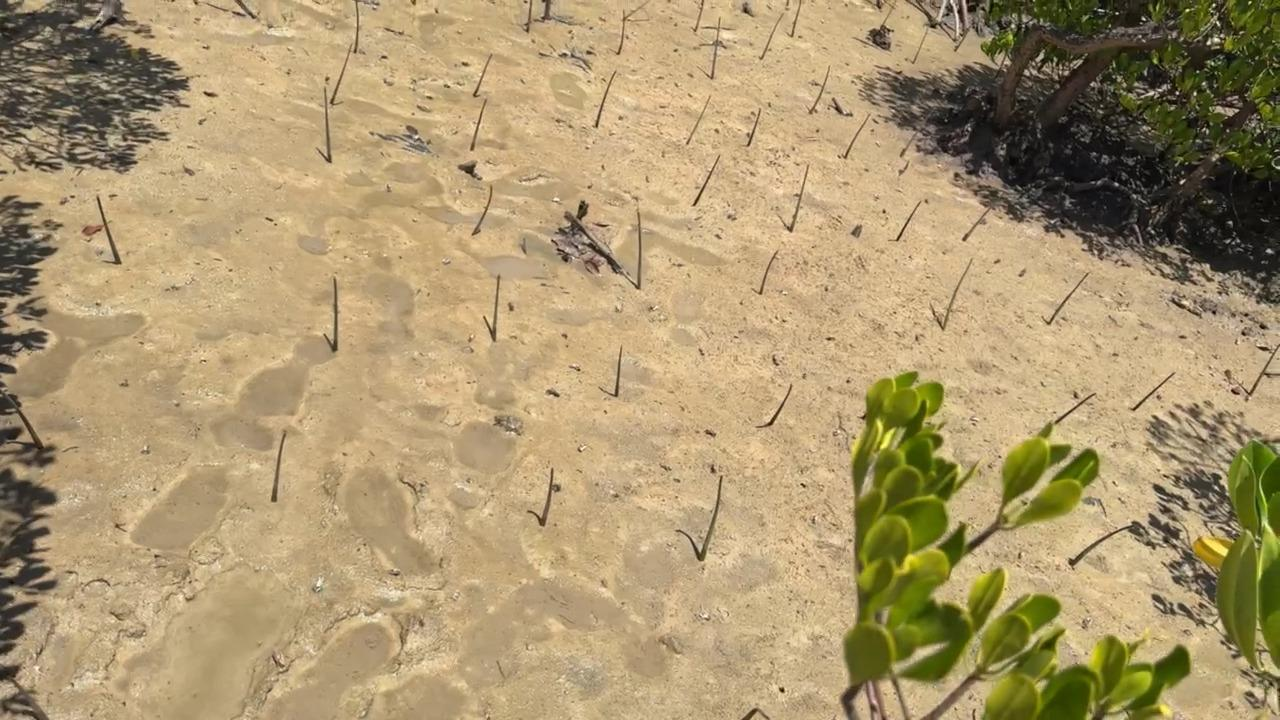Tree: (1071, 524, 1136, 565), (0, 390, 44, 449), (698, 475, 724, 562), (943, 257, 973, 330), (1049, 273, 1089, 325), (96, 196, 122, 264), (900, 109, 936, 157), (1132, 372, 1175, 411), (1250, 345, 1280, 394), (329, 44, 353, 102), (790, 163, 810, 232), (693, 155, 720, 206), (1055, 393, 1097, 424), (685, 95, 711, 144), (271, 434, 289, 502), (844, 114, 871, 158), (595, 71, 616, 127), (760, 13, 784, 61), (472, 186, 493, 235), (809, 66, 830, 115), (769, 384, 793, 426), (470, 98, 489, 151), (897, 201, 922, 241), (963, 207, 991, 241), (760, 250, 779, 295), (473, 55, 492, 97), (541, 468, 554, 525), (323, 86, 332, 163), (710, 17, 721, 78), (912, 28, 928, 64), (493, 275, 501, 342), (334, 277, 341, 353), (747, 108, 761, 146), (637, 213, 643, 289), (955, 26, 972, 52), (615, 344, 623, 397), (791, 0, 801, 37), (617, 10, 625, 54), (694, 0, 703, 31), (355, 0, 360, 52), (526, 0, 534, 32)
